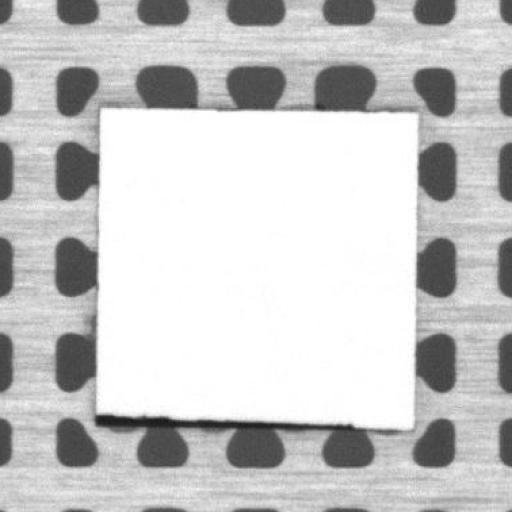DIE_BROKEN: (91, 408, 359, 428)
